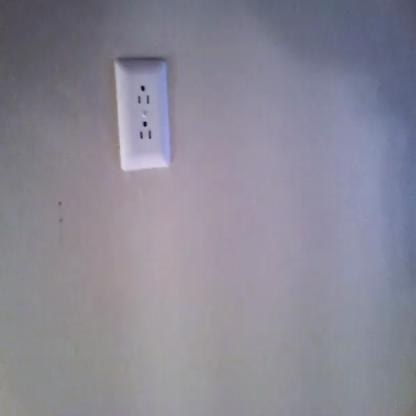OUTLET: (115, 62, 168, 172)
